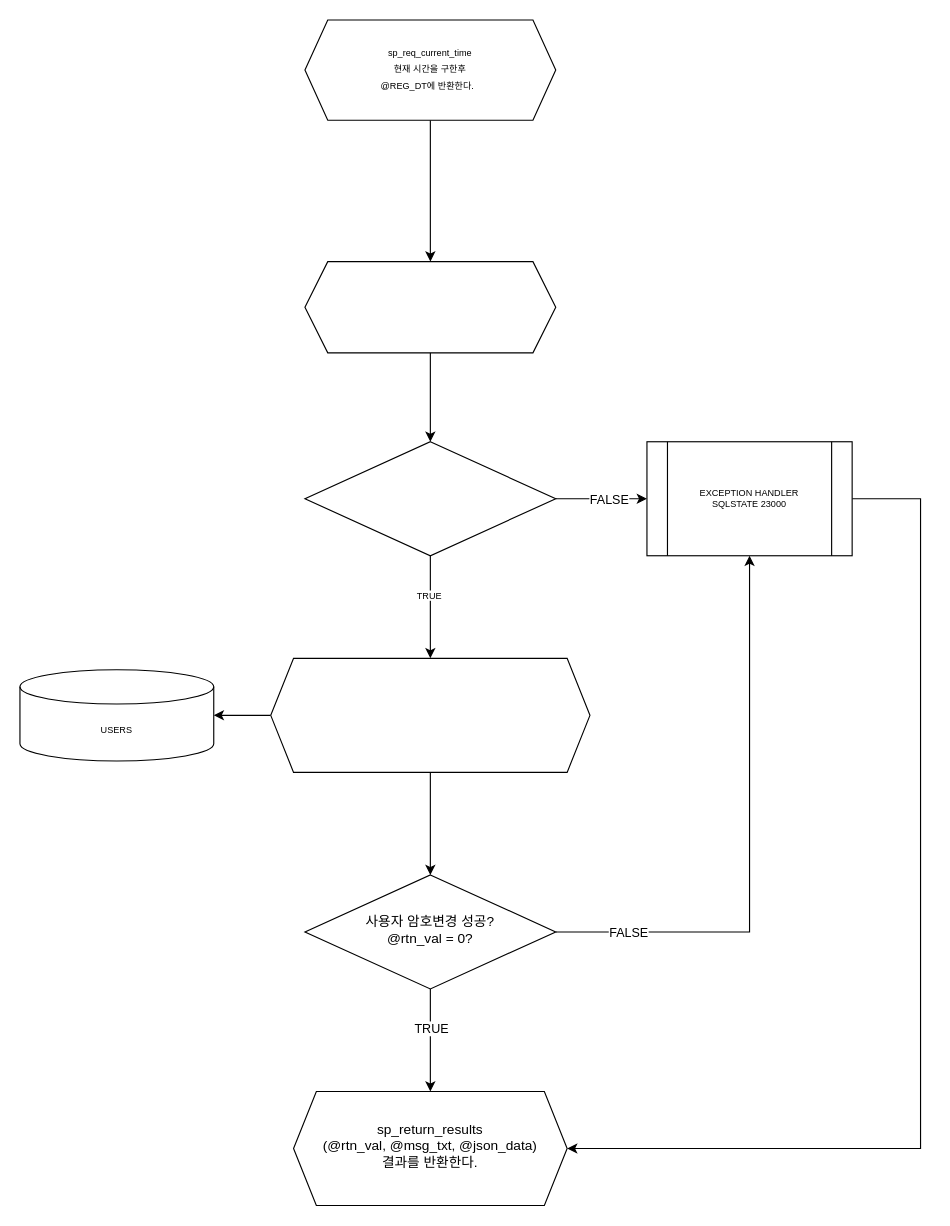
Image size: 950x1226. Some labels were removed from this diagram. Here are the shapes that lost their labels. From the top down, the box of each, then its label:
(304, 260, 556, 353): sp_req_user_exists_by_id 사용자ID가 존재하는지 검사한 후 그 결과를 @rtn_val에 반환한다
(304, 441, 556, 556): 사용자가 존재하는가? @rtn_val = 0?
(270, 657, 590, 772): 사용자의 암호를 변경한 후 그 결과를 @rtn_val에 반환한다 (UPDATE)
